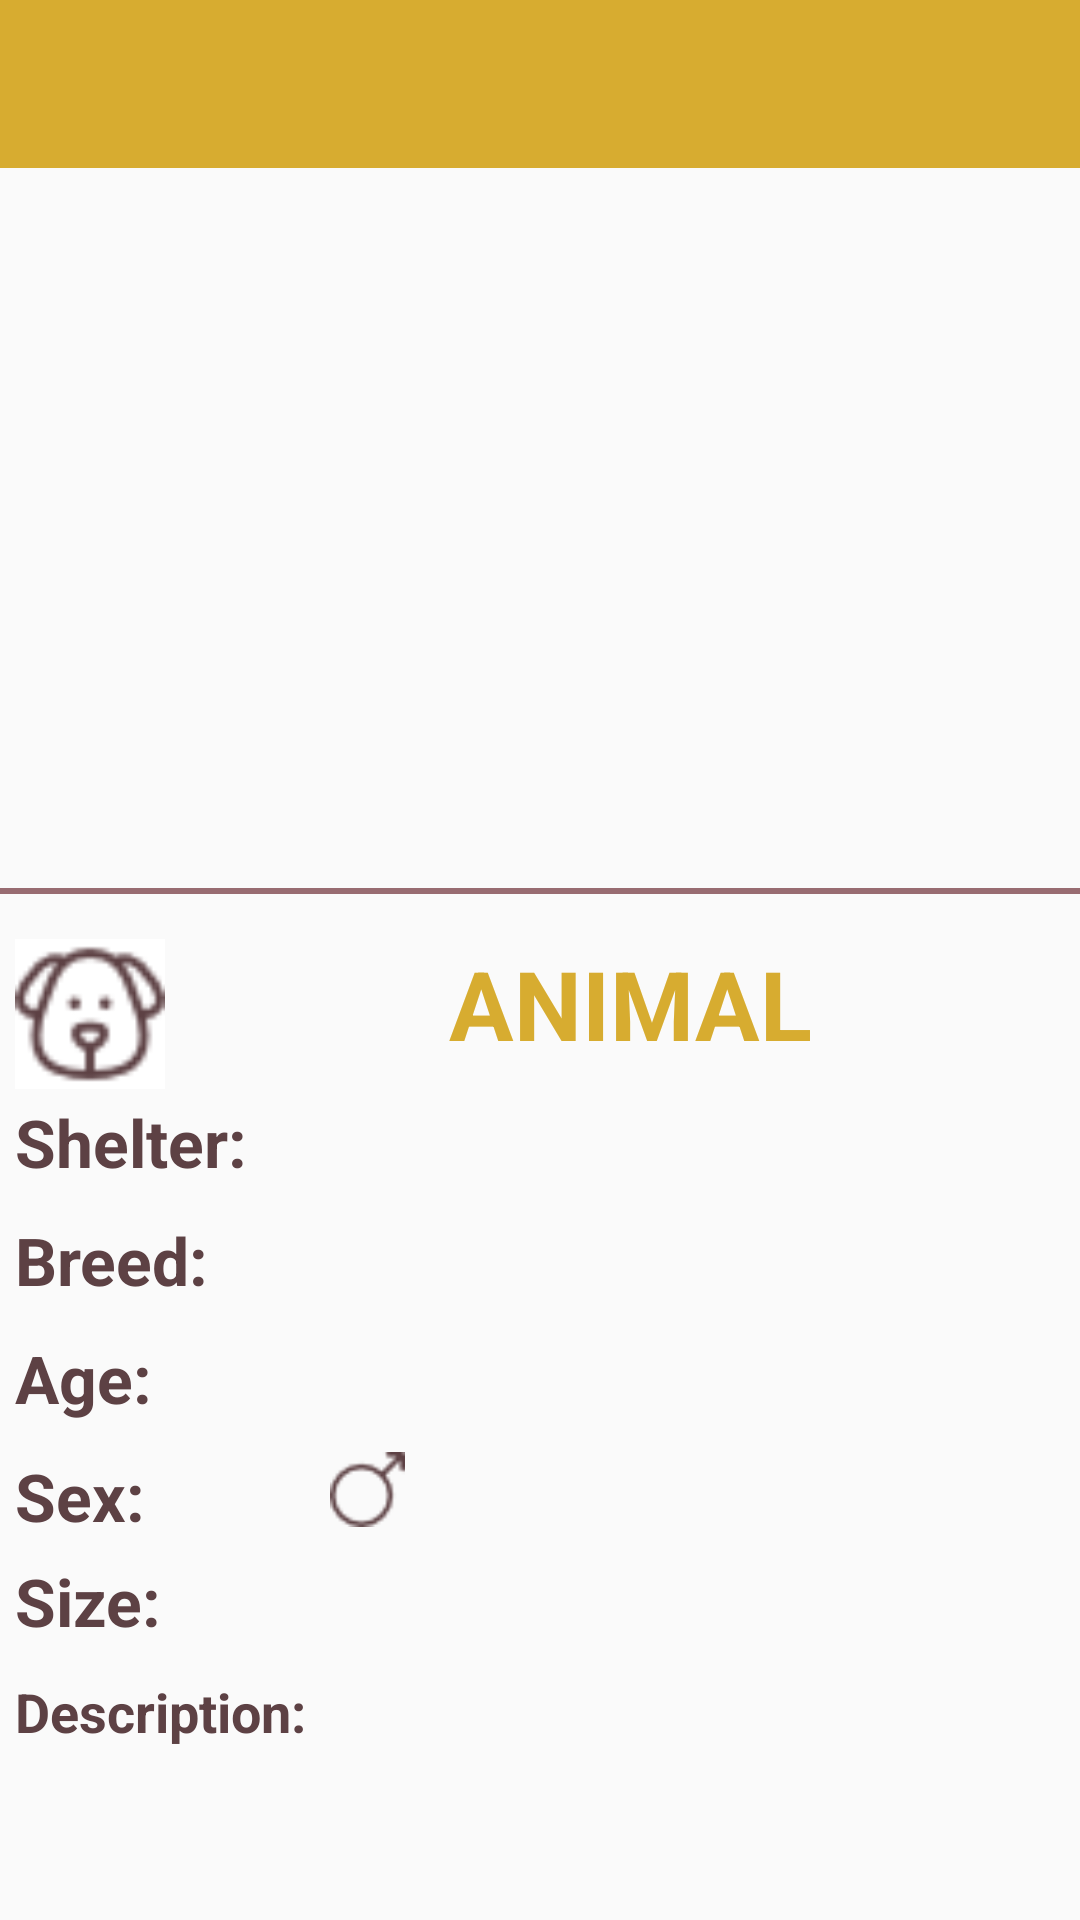

Screen size 1080px×1920px. Icon name, then its center in pixels as point (x, y):
dog brown: point (90, 1014)
male brown: point (367, 1489)
